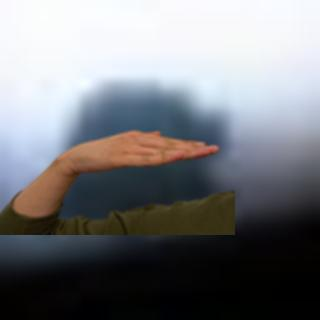WAIT: (61, 123, 222, 177)
